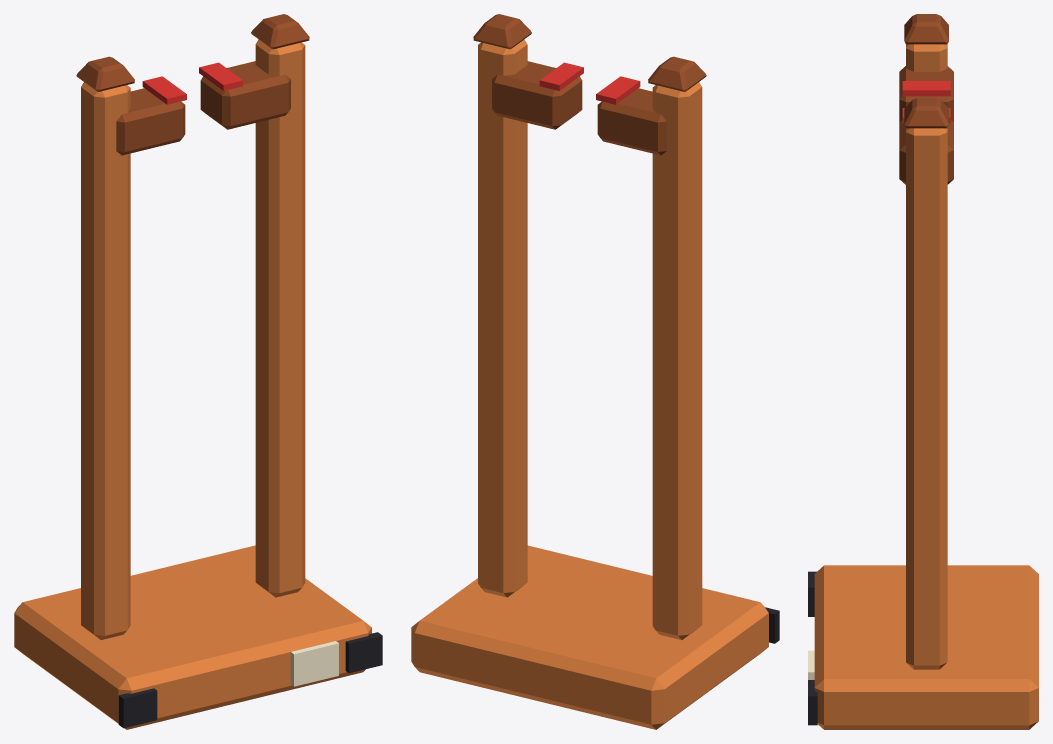
The model's file is SwordHolder.fbx.
The picture shows the model from 3 angles, left to right: view 1: azimuth 30°, elevation 25°; view 2: azimuth 150°, elevation 25°; view 3: azimuth 270°, elevation 25°; orthographic projection.
Parts seen in each view (by area): view 1: Plinth.001, Upright, Upright.001, Crossbar.001, Crossbar, Tag, UprightCap.001, UprightCap, CornerIron, CornerIron.001, Pad, Pad.001; view 2: Plinth.001, Upright, Upright.001, Crossbar.001, Crossbar, UprightCap.001, UprightCap, Pad.001, Pad; view 3: Plinth.001, Upright.001, UprightCap, UprightCap.001, Upright, Crossbar, Crossbar.001, Pad, CornerIron.001.
Boxes of the visible parts, bbox=[...] form: Plinth.001: bbox=[14, 545, 371, 729]; Upright: bbox=[81, 82, 130, 639]; Upright.001: bbox=[255, 39, 305, 597]; Crossbar.001: bbox=[200, 61, 290, 129]; Crossbar: bbox=[116, 88, 185, 155]; Tag: bbox=[290, 641, 338, 686]; UprightCap.001: bbox=[251, 14, 309, 49]; UprightCap: bbox=[76, 56, 134, 91]; CornerIron: bbox=[118, 688, 157, 728]; CornerIron.001: bbox=[345, 632, 382, 673]; Pad: bbox=[142, 76, 186, 104]; Pad.001: bbox=[199, 62, 243, 90]; Plinth.001: bbox=[411, 545, 768, 729]; Upright: bbox=[652, 82, 702, 639]; Upright.001: bbox=[478, 39, 527, 597]; Crossbar.001: bbox=[492, 61, 582, 129]; Crossbar: bbox=[597, 88, 666, 155]; UprightCap.001: bbox=[473, 14, 531, 49]; UprightCap: bbox=[648, 56, 706, 91]; Pad.001: bbox=[539, 62, 583, 90]; Pad: bbox=[596, 76, 640, 104]; Plinth.001: bbox=[814, 565, 1038, 729]; Upright.001: bbox=[906, 128, 947, 669]; UprightCap: bbox=[904, 14, 948, 44]; UprightCap.001: bbox=[904, 98, 948, 128]; Upright: bbox=[906, 44, 947, 71]; Crossbar: bbox=[899, 66, 953, 121]; Crossbar.001: bbox=[899, 120, 953, 184]; Pad: bbox=[902, 81, 950, 96]; CornerIron.001: bbox=[808, 680, 817, 725].
Bounding box in the file's own units: 184 × 422 × 144.
